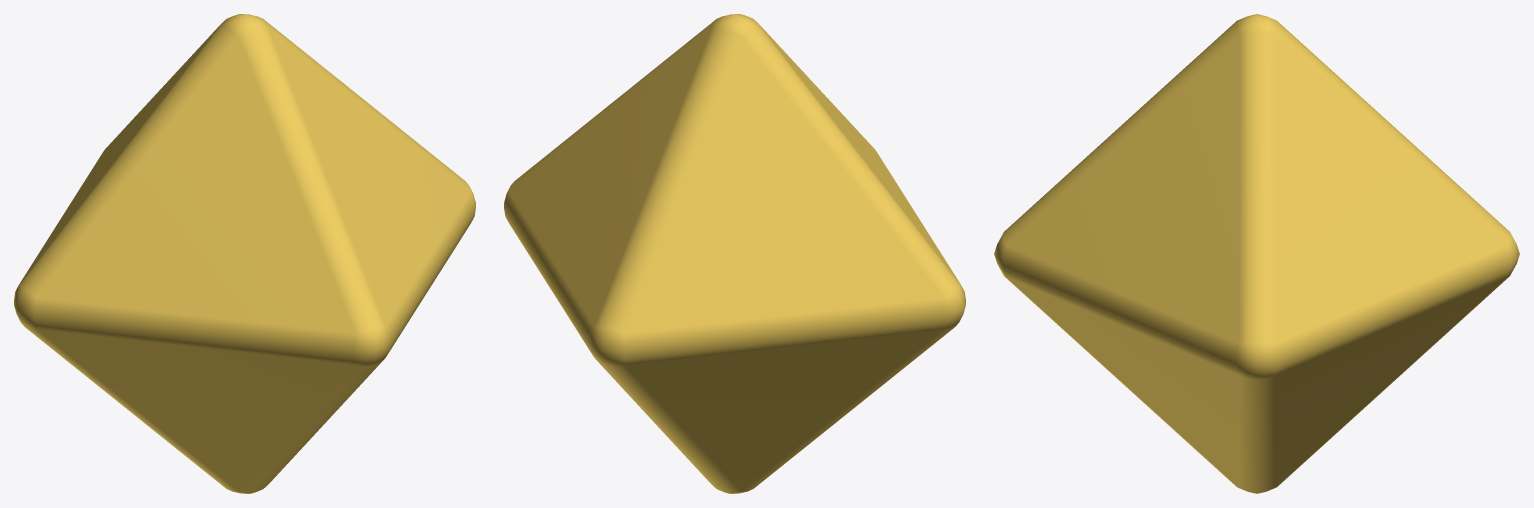
The model's file is octahedron.glb.
3 renders of one model, left to right at view 1: azimuth 30°, elevation 25°; view 2: azimuth 150°, elevation 25°; view 3: azimuth 270°, elevation 25°, orthographic.
Visible parts, largest first — view 1: octahedron; view 2: octahedron; view 3: octahedron.
Part boxes in pixels (x1,y1,x2,y2): octahedron: [14, 14, 475, 493]; octahedron: [504, 14, 965, 493]; octahedron: [994, 14, 1519, 493].
Bounding box in the file's own units: 1.84 × 1.84 × 1.84.
